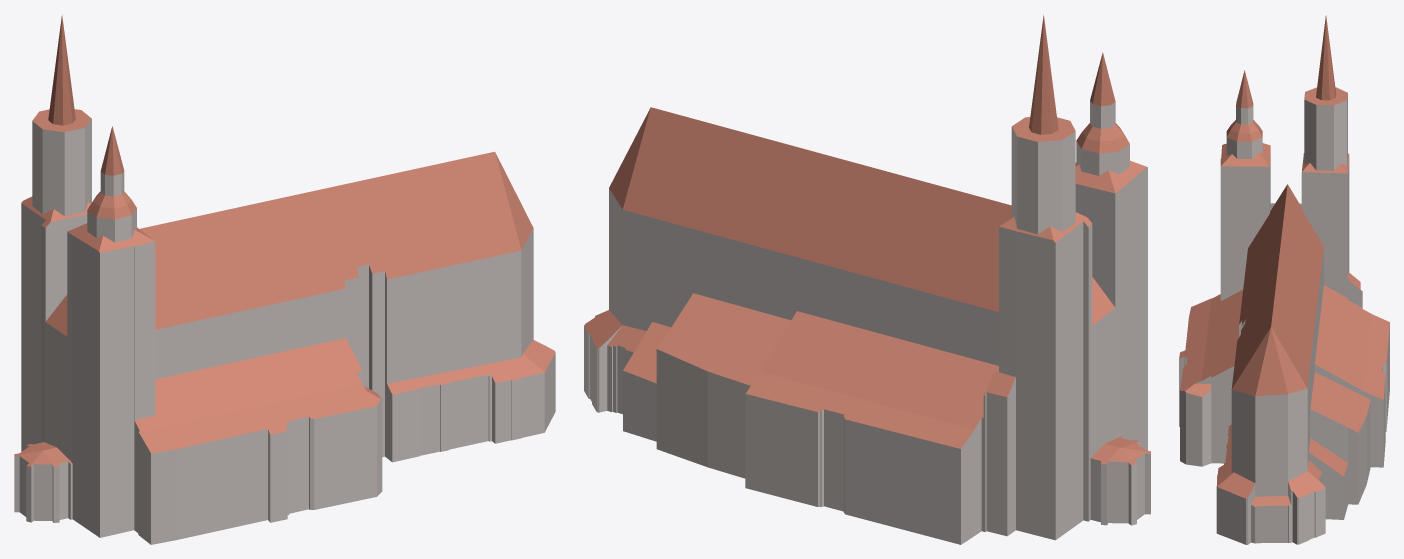
The model's file is st-marys.glb.
3 views of the same model, side by side, from view 1: azimuth 30°, elevation 25°; view 2: azimuth 150°, elevation 25°; view 3: azimuth 270°, elevation 25° (orthographic). The views are drawn at different scales.
Visible parts, largest first — view 1: St Mary's Basilica; view 2: St Mary's Basilica; view 3: St Mary's Basilica.
Part boxes in pixels (<box>): St Mary's Basilica: <box>14,15,555,544</box>; St Mary's Basilica: <box>584,14,1150,544</box>; St Mary's Basilica: <box>1179,15,1389,544</box>.
Bounding box in the file's own units: 88.5 × 77.69 × 40.85.
